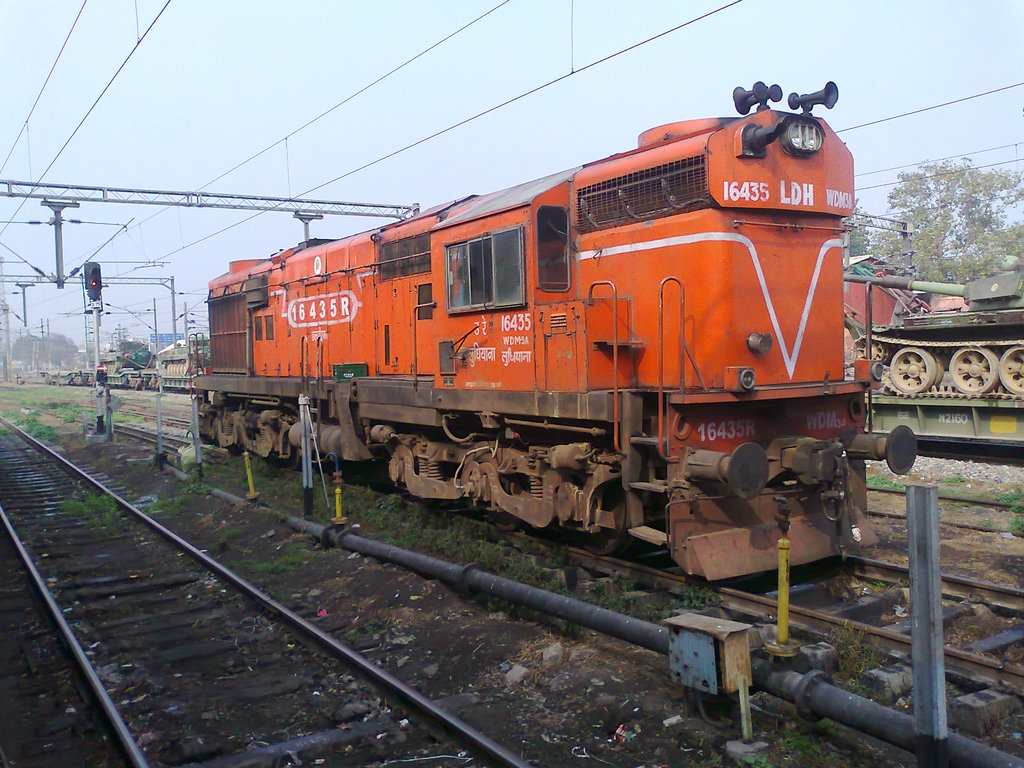train: (190, 80, 915, 588)
